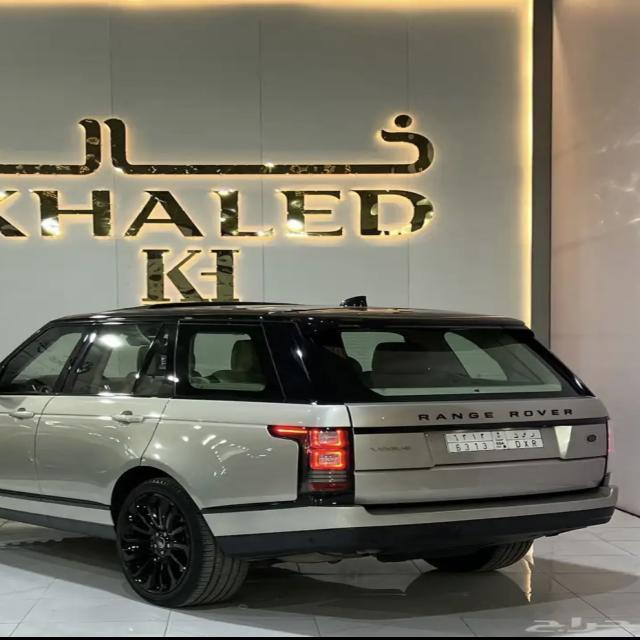license_plate: (442, 431, 545, 451)
